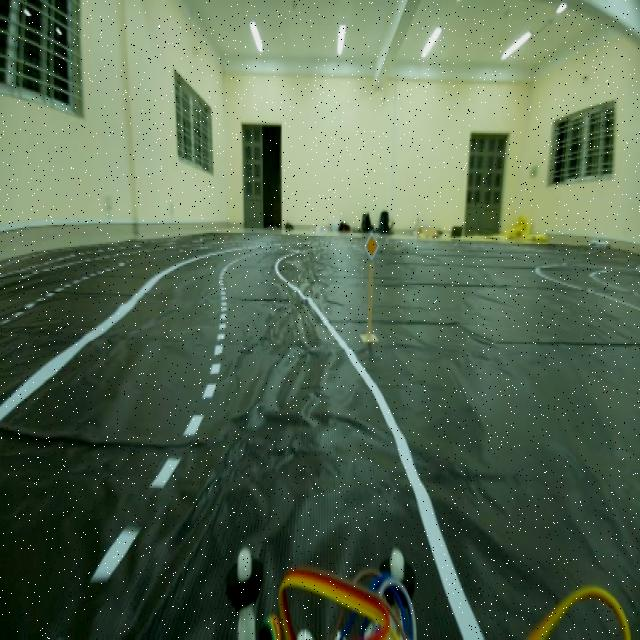priority: (362, 232, 384, 270)
